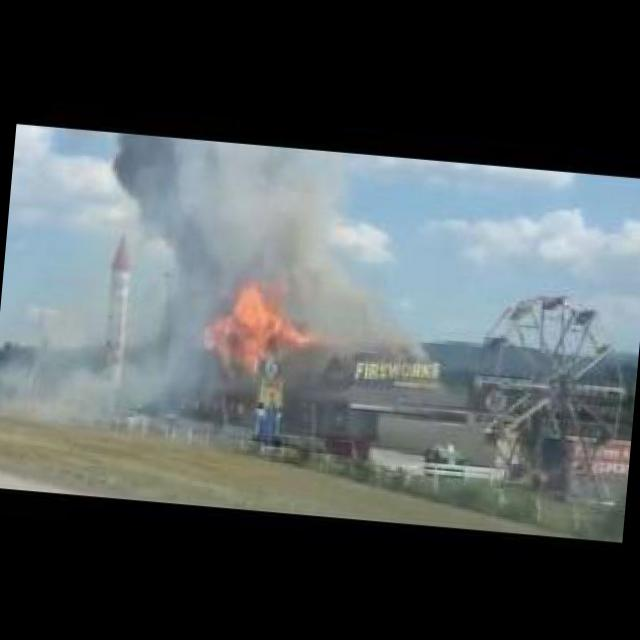fire: (196, 280, 320, 370)
smoke: (101, 140, 375, 340)
